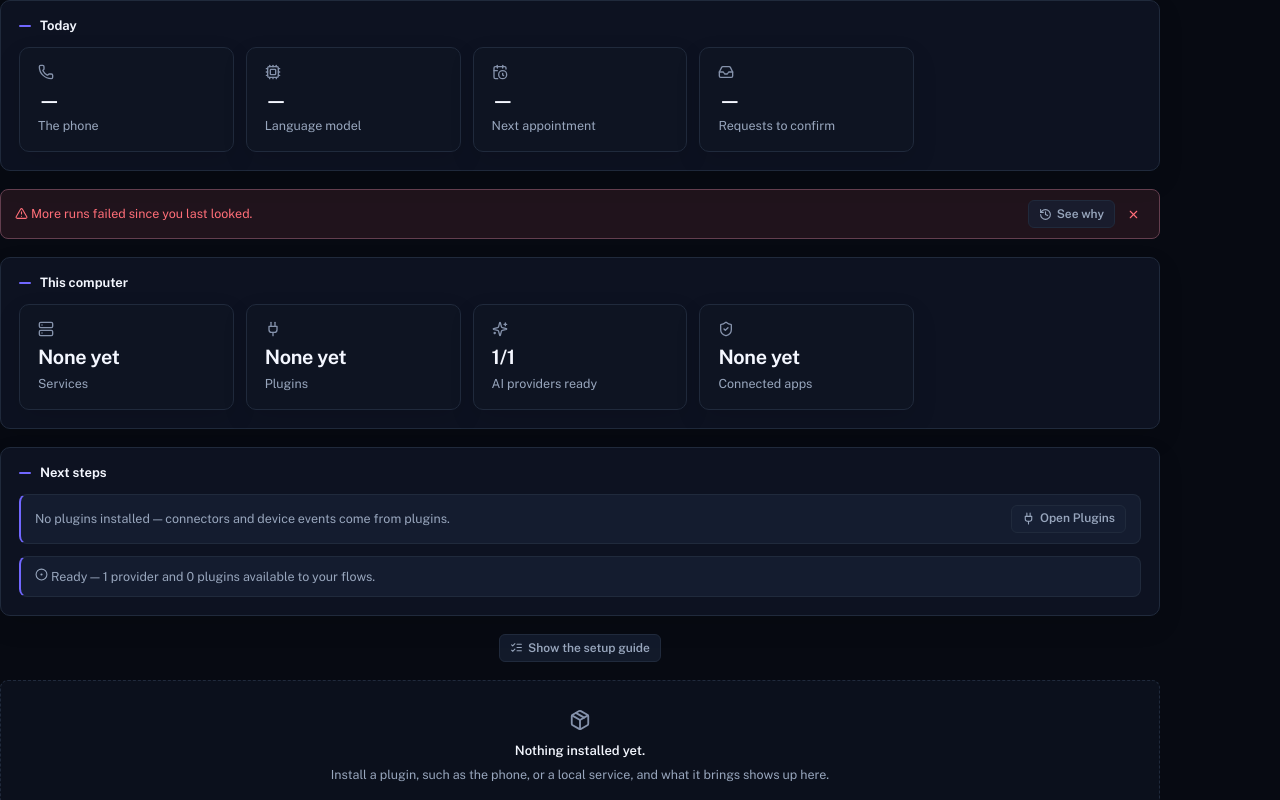
Test: OverviewPanel failure reporting › judges a failure new by when it ended: one after those seen warns though the count is the same
This screenshot has width=1280, height=800.
Click the button named "Dismiss: these failures are seen": (1133, 214) [1121,202,1145,226]
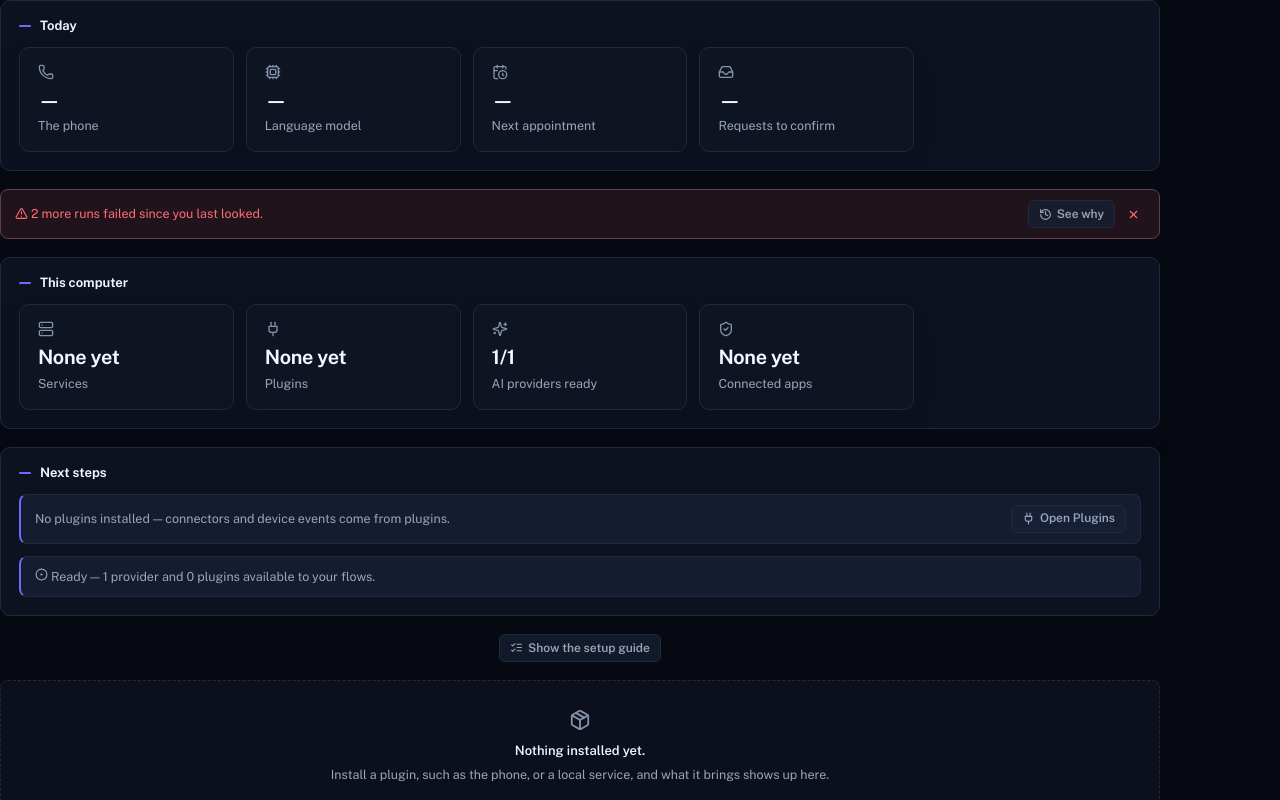
Expected: the text "failed since" is not shown
Expected: the text "2 more runs failed since you last looked." is shown, [15,206,263,221]
